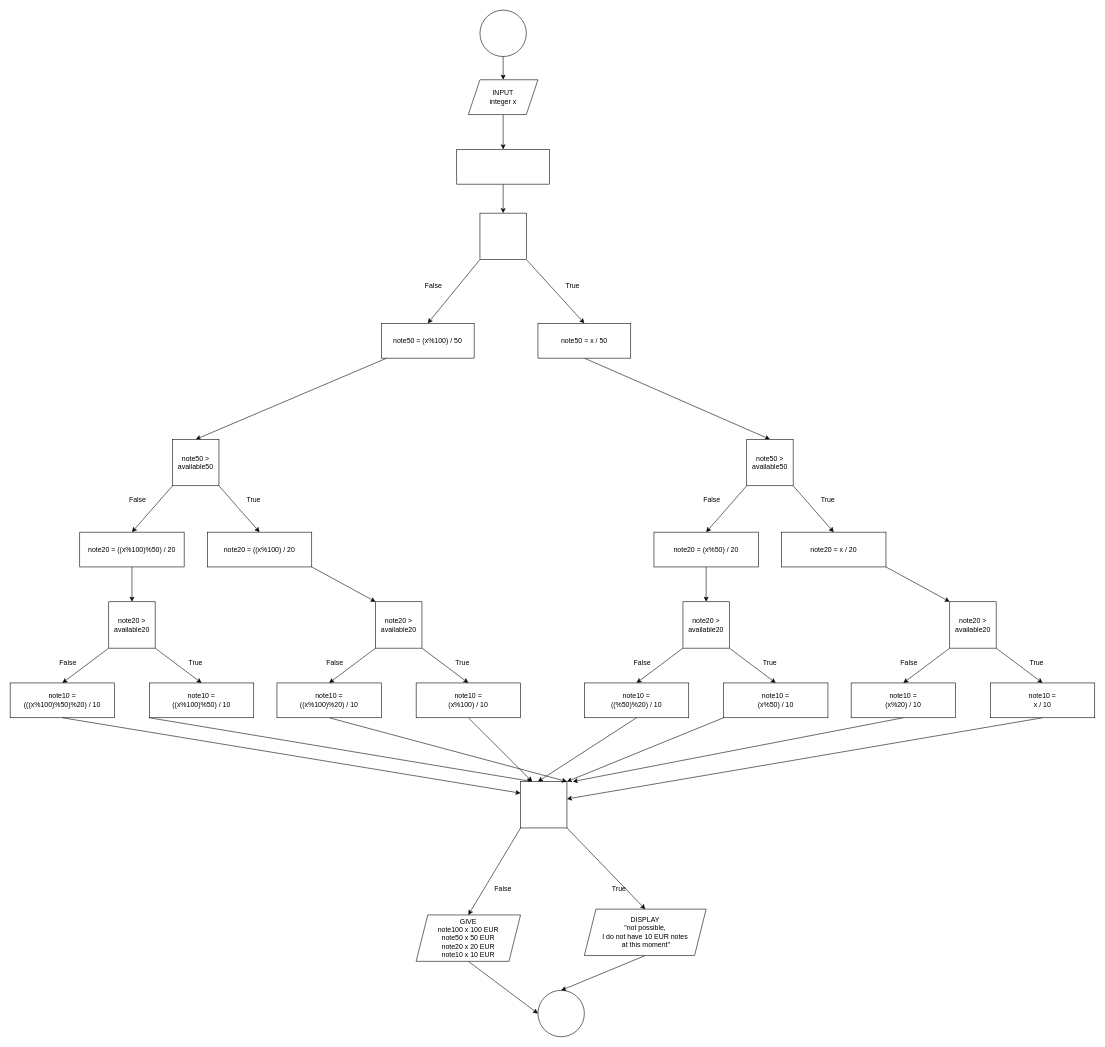
Some shapes in this 1105 by 1047 pixel diagram are drawn without their labels. Here are the shapes that lost their labels. From the top down, the centre of each, then its label:
the point at 502,33: Start
the point at 503,166: note100 = x / 100
the point at 502,236: note100 > available100
the point at 543,804: note 10 > available10
the point at 560,1013: End
